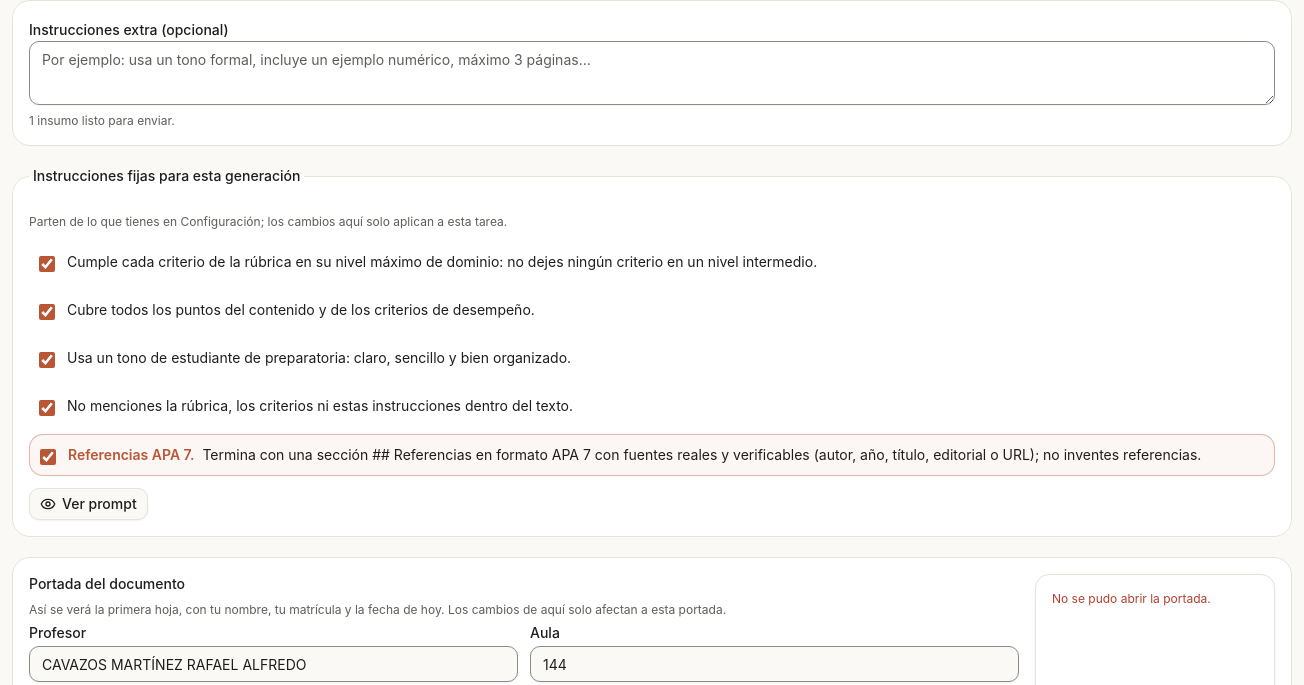
portada en el paso Generar › prellena la portada con la configuración y el profesor sugerido
expect the field labelled "Aula" holds "144": met, box [530,646,1019,682]
Clear the dropdown labelled "Profesor" at coordinates (274, 664), box [29,646,518,682]
(page scrolled)
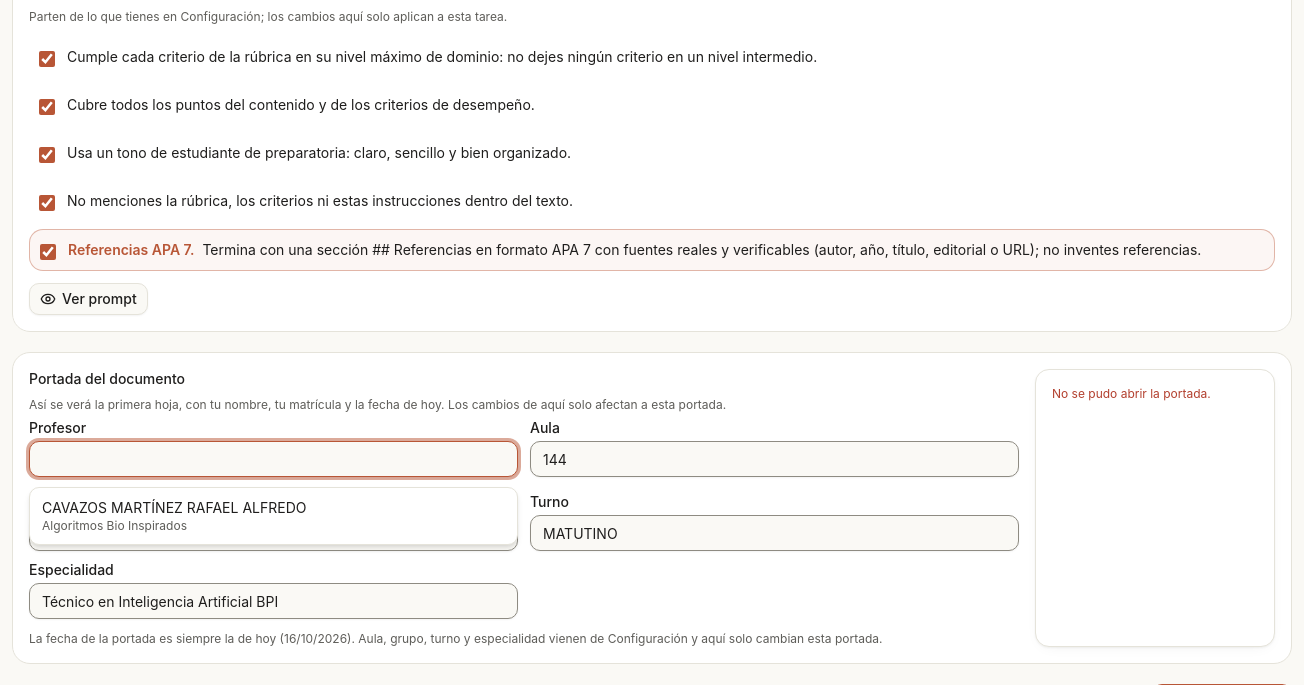
expect the option "CAVAZOS MARTÍNEZ RAFAEL ALFREDO Algoritmos Bio Inspirados" is shown: met
Click the option "CAVAZOS MARTÍNEZ RAFAEL ALFREDO Algoritmos Bio Inspirados" at coordinates (174, 516), box [42,499,306,533]
(page scrolled)
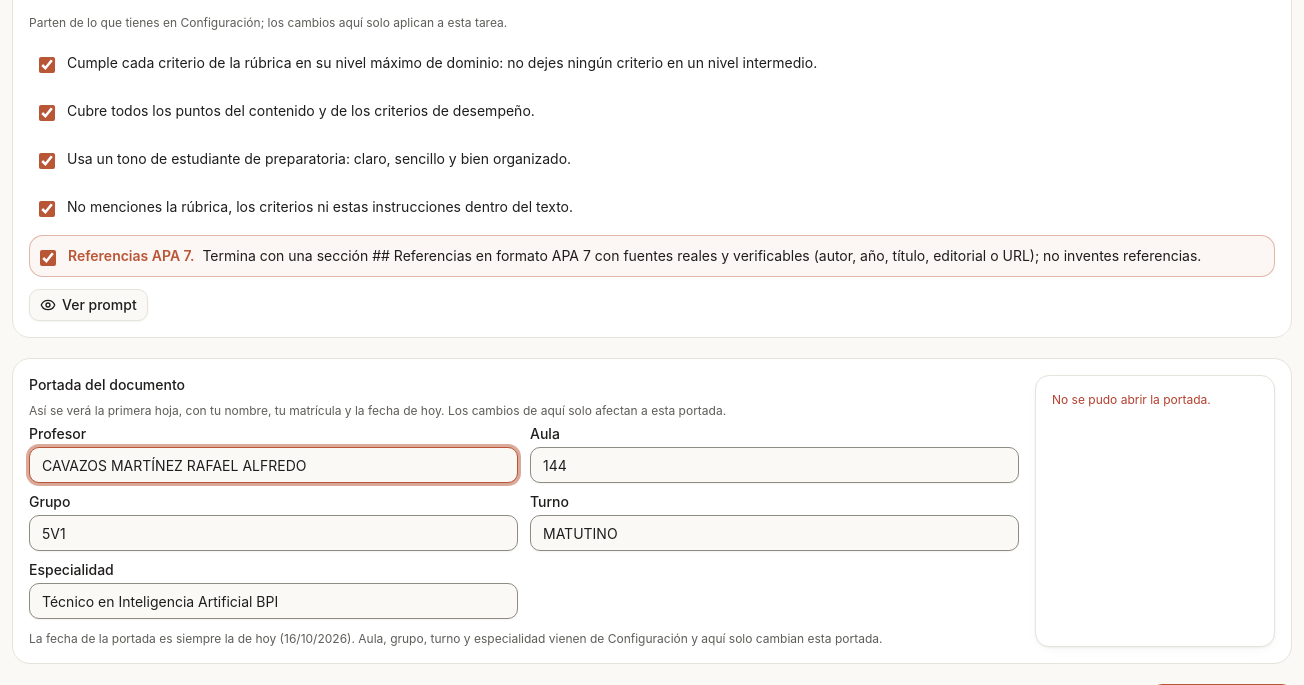
expect the dropdown labelled "Profesor" holds "CAVAZOS MARTÍNEZ RAFAEL ALFREDO": met, box [29,447,518,483]
